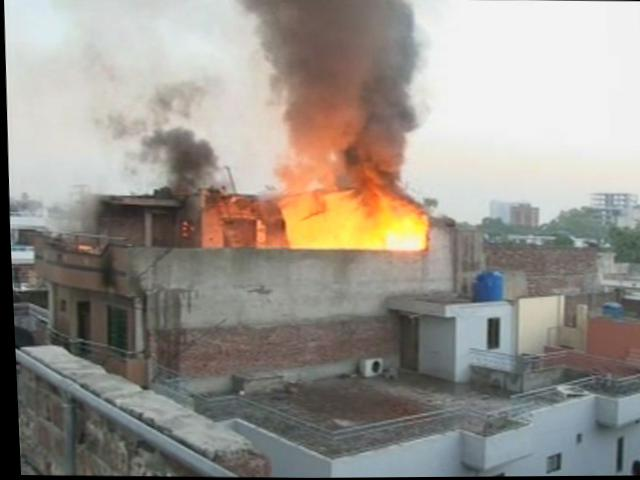fire: (282, 201, 425, 256)
smoke: (2, 0, 229, 135), (232, 0, 356, 197), (342, 0, 438, 181), (11, 125, 239, 190)
